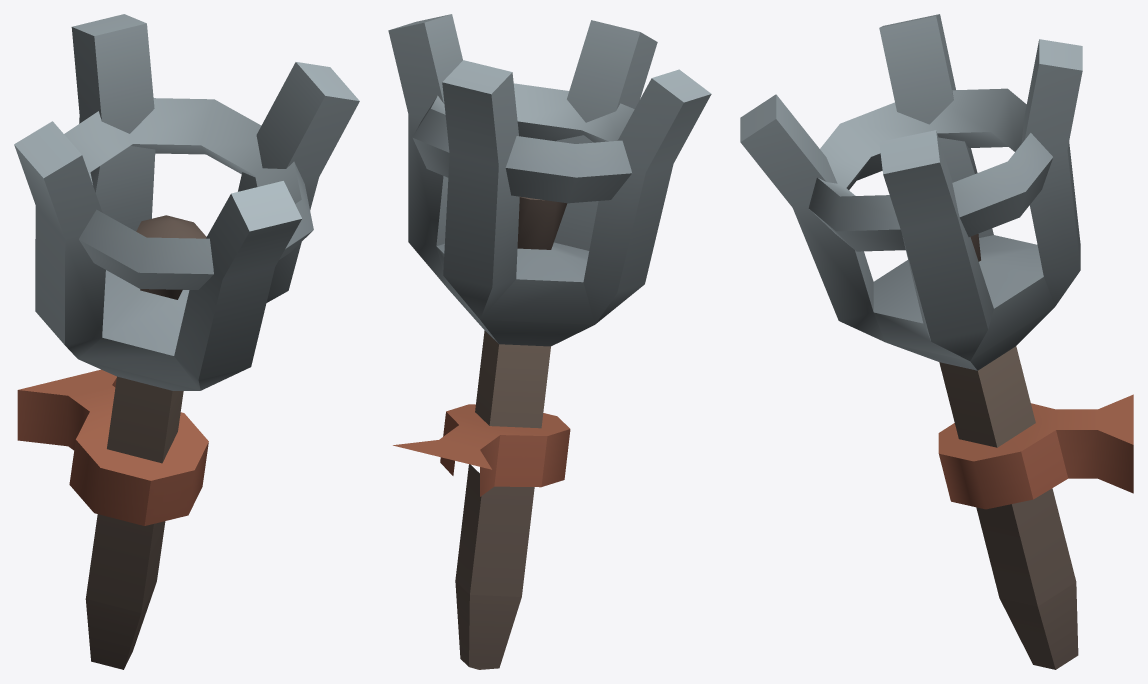
Rendered from torch_mounted.glb.
3 views of the same model, side by side, from view 1: azimuth 30°, elevation 25°; view 2: azimuth 150°, elevation 25°; view 3: azimuth 270°, elevation 25° (orthographic). The views are drawn at different scales.
Parts seen in each view (by area): view 1: torch_mounted; view 2: torch_mounted; view 3: torch_mounted.
Part boxes in pixels (x1=…): torch_mounted: x1=14, y1=14, x2=359, y2=669; torch_mounted: x1=388, y1=14, x2=711, y2=669; torch_mounted: x1=740, y1=14, x2=1133, y2=669.
Bounding box in the file's own units: 0.5503 × 1.06 × 0.6158.
1 material, 1 textured.
